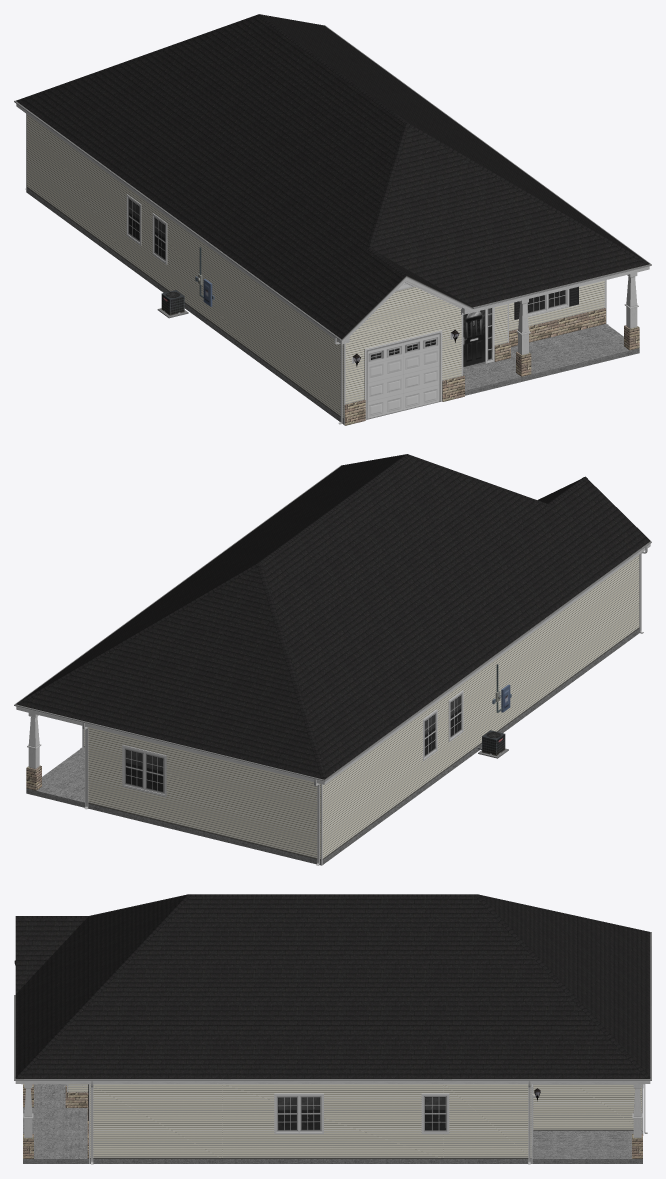
The model's file is house3_mirror1.fbx.
3 renders of one model, top to bottom at view 1: azimuth 30°, elevation 25°; view 2: azimuth 150°, elevation 25°; view 3: azimuth 270°, elevation 25°, orthographic. The views are drawn at different scales.
Parts seen in each view (by area): view 1: house3_mirror1_LOD0; view 2: house3_mirror1_LOD0; view 3: house3_mirror1_LOD0.
Part boxes in pixels (left/top/right/bottom): house3_mirror1_LOD0: left=14, top=14, right=651, bottom=425; house3_mirror1_LOD0: left=14, top=454, right=651, bottom=865; house3_mirror1_LOD0: left=14, top=894, right=651, bottom=1164.
Size of what is drawn, in the model's own units: 3.31 by 1.99 by 5.76.
